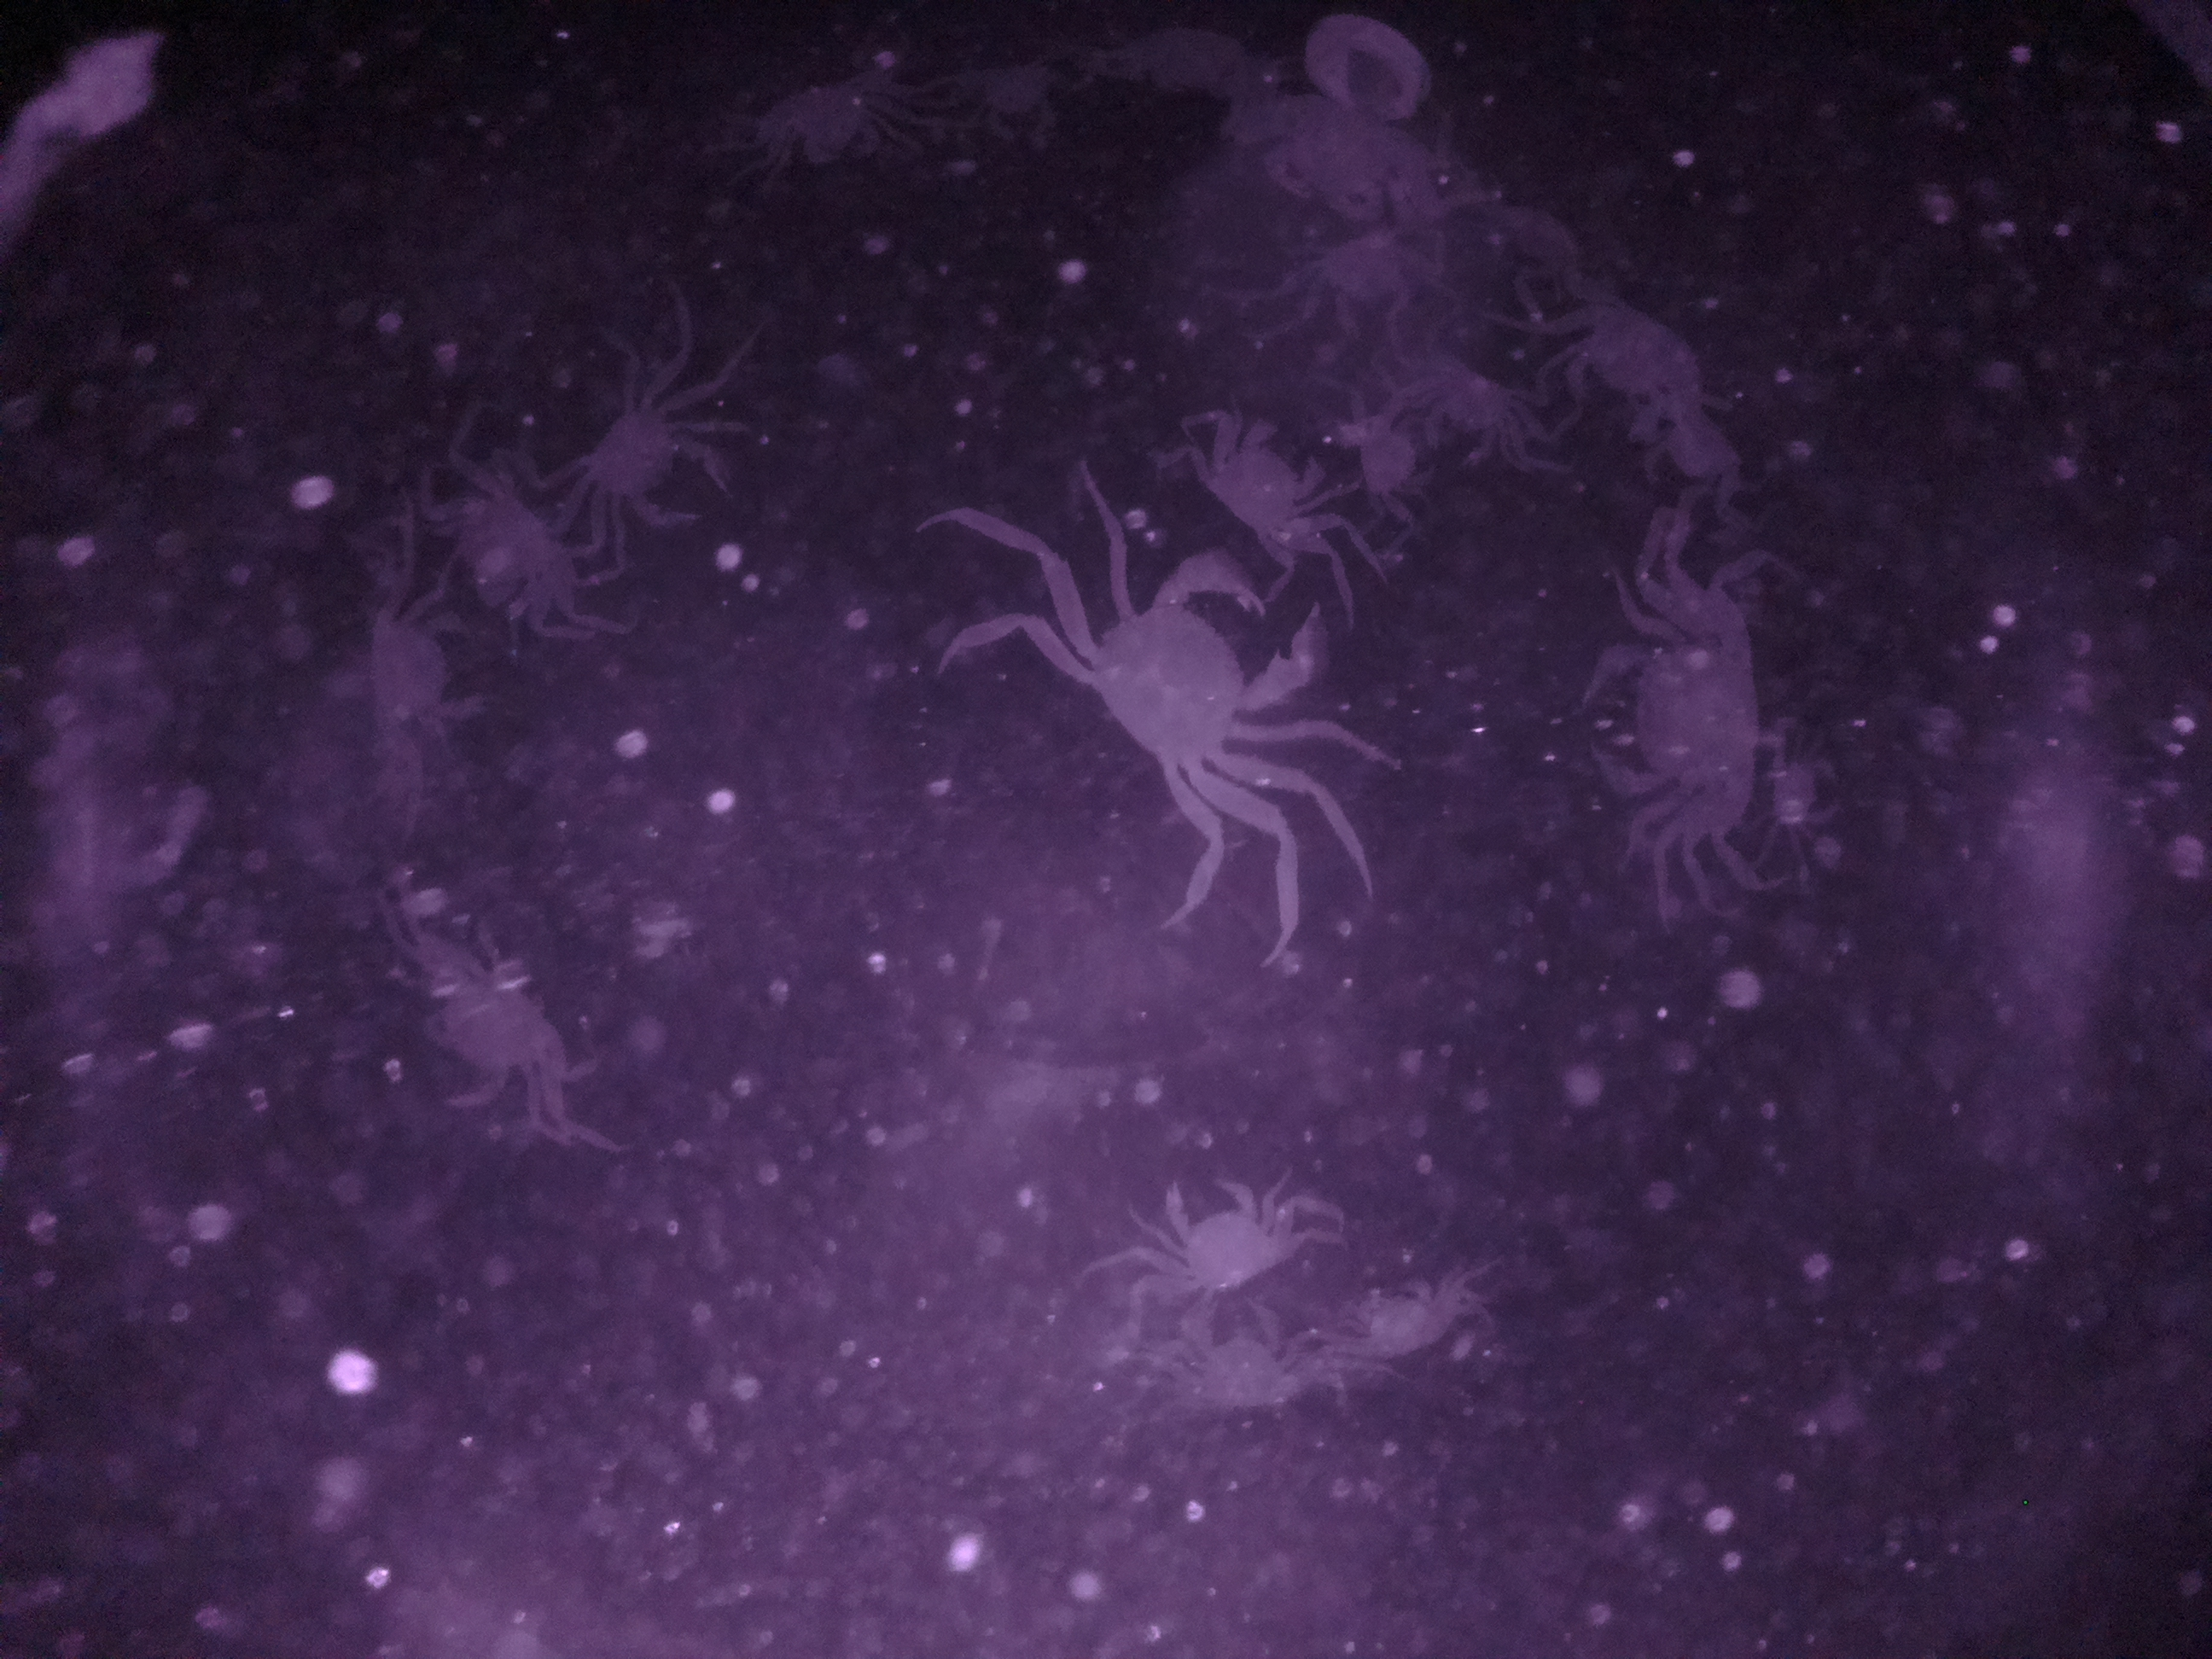Crab: (1021, 559, 1329, 852), (1571, 573, 1787, 859), (545, 371, 745, 551), (1118, 1162, 1320, 1307), (355, 573, 498, 767), (1177, 410, 1341, 570), (749, 63, 921, 188), (1406, 350, 1540, 486)
